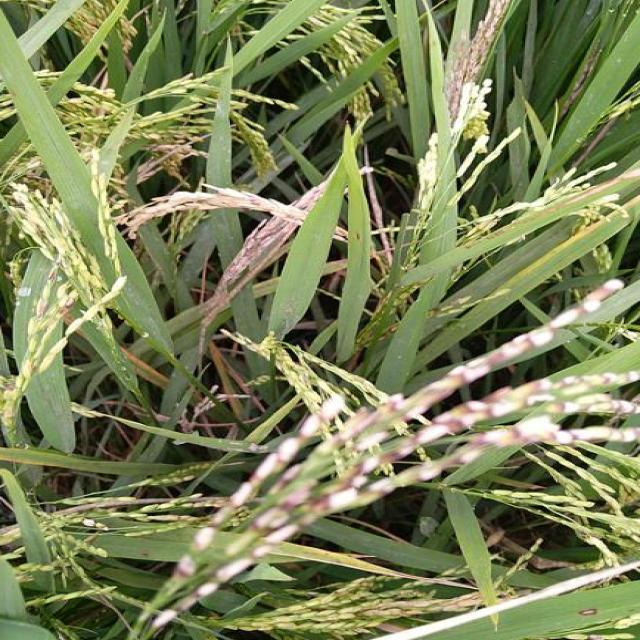Panicle Blight: (330, 282, 624, 451), (177, 396, 345, 577), (313, 386, 510, 513), (155, 525, 301, 628), (403, 429, 640, 483), (524, 369, 640, 407), (354, 592, 484, 621), (252, 489, 307, 536), (546, 400, 640, 414), (271, 464, 301, 500), (431, 296, 472, 313), (379, 322, 400, 341), (367, 479, 395, 493), (80, 514, 103, 528), (59, 297, 77, 313), (24, 361, 40, 376), (37, 298, 46, 317), (3, 379, 15, 392), (47, 270, 56, 282), (4, 410, 15, 419)
